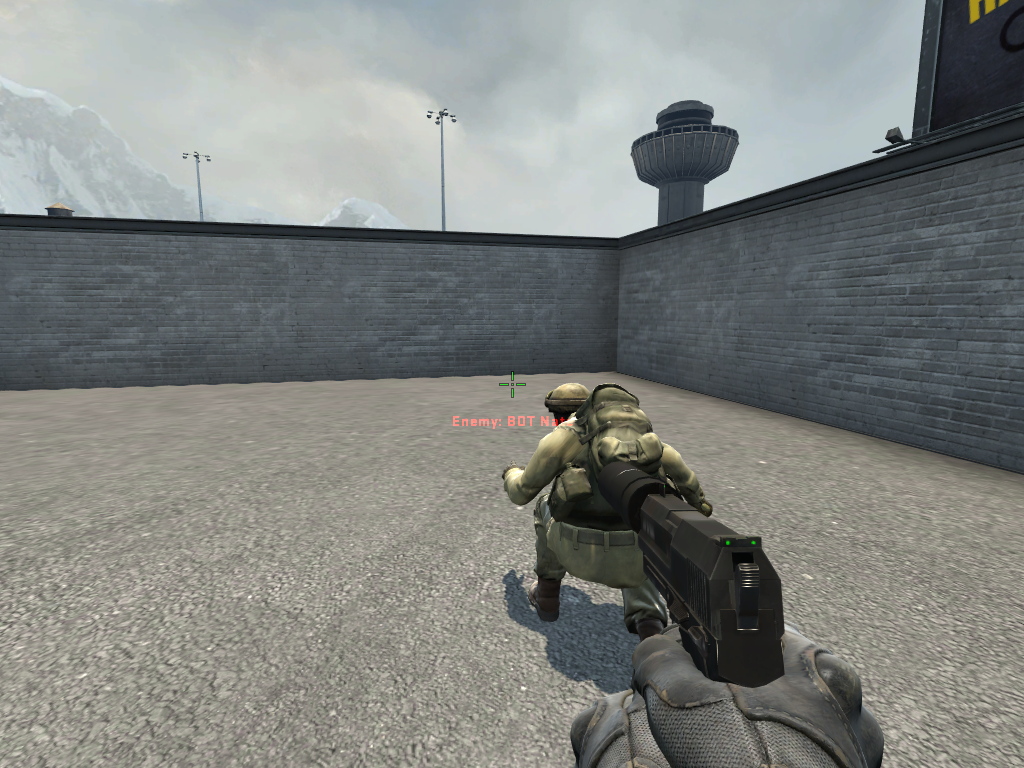ct head: (542, 379, 600, 432)
